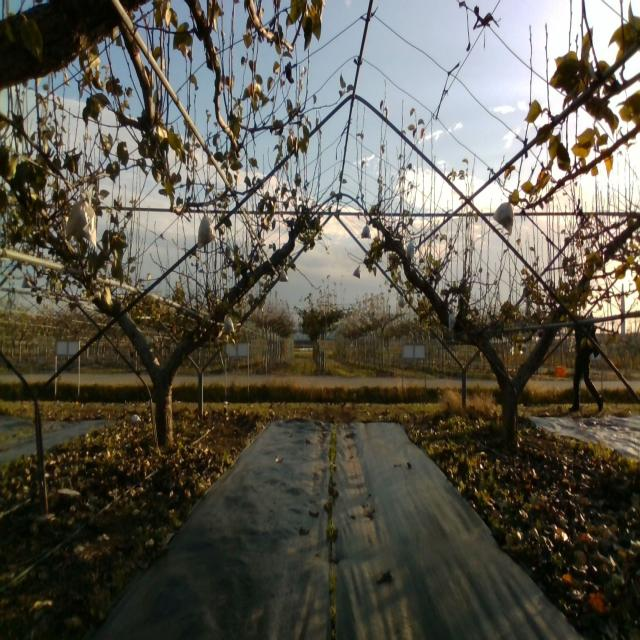pearbags: (65, 184, 100, 245), (492, 194, 514, 232), (198, 208, 218, 247), (405, 238, 416, 261), (223, 313, 234, 335), (361, 221, 372, 240)
